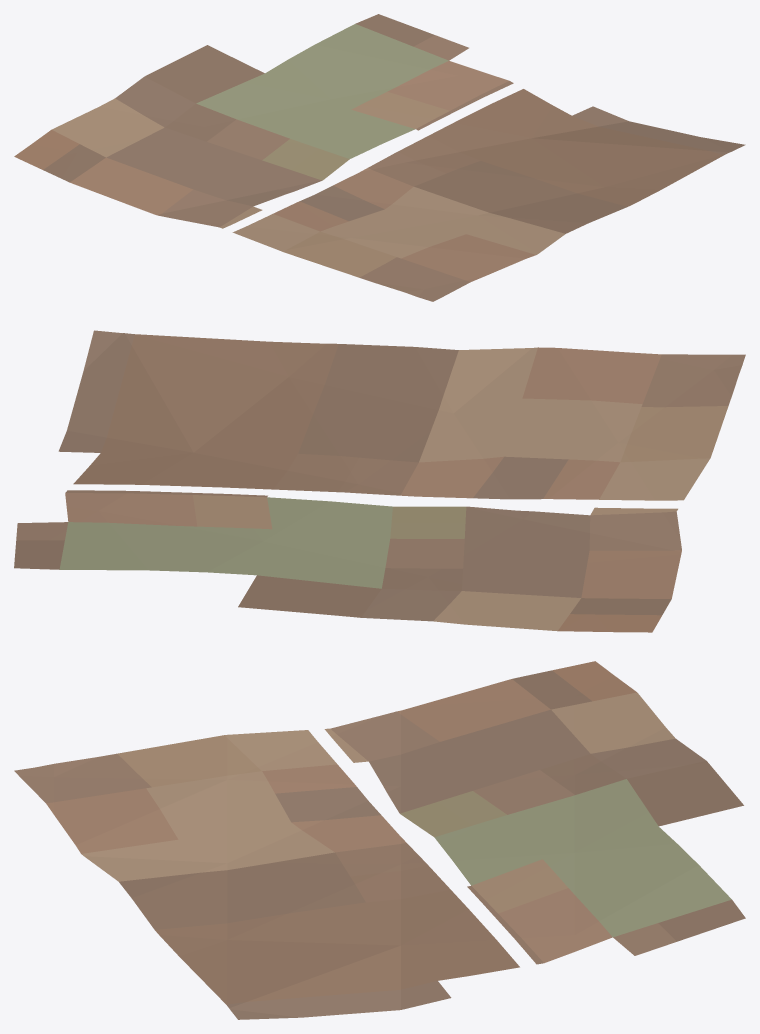
The model's file is farm_20_21_soil.glb.
3 views of the same model, one above another, from view 1: azimuth 30°, elevation 25°; view 2: azimuth 150°, elevation 25°; view 3: azimuth 270°, elevation 25° (orthographic). The views are drawn at different scales.
Visible parts, largest first — view 1: geometry_0; view 2: geometry_0; view 3: geometry_0.
Boxes of the visible parts, x1=… form: geometry_0: x1=14, y1=14, x2=745, y2=301; geometry_0: x1=14, y1=330, x2=745, y2=632; geometry_0: x1=14, y1=661, x2=745, y2=1019.
Size of the model in its own units: 366 by 22.68 by 337.
